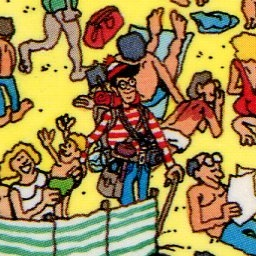waldo: (101, 53, 155, 203), (101, 54, 147, 159), (103, 55, 142, 107)
